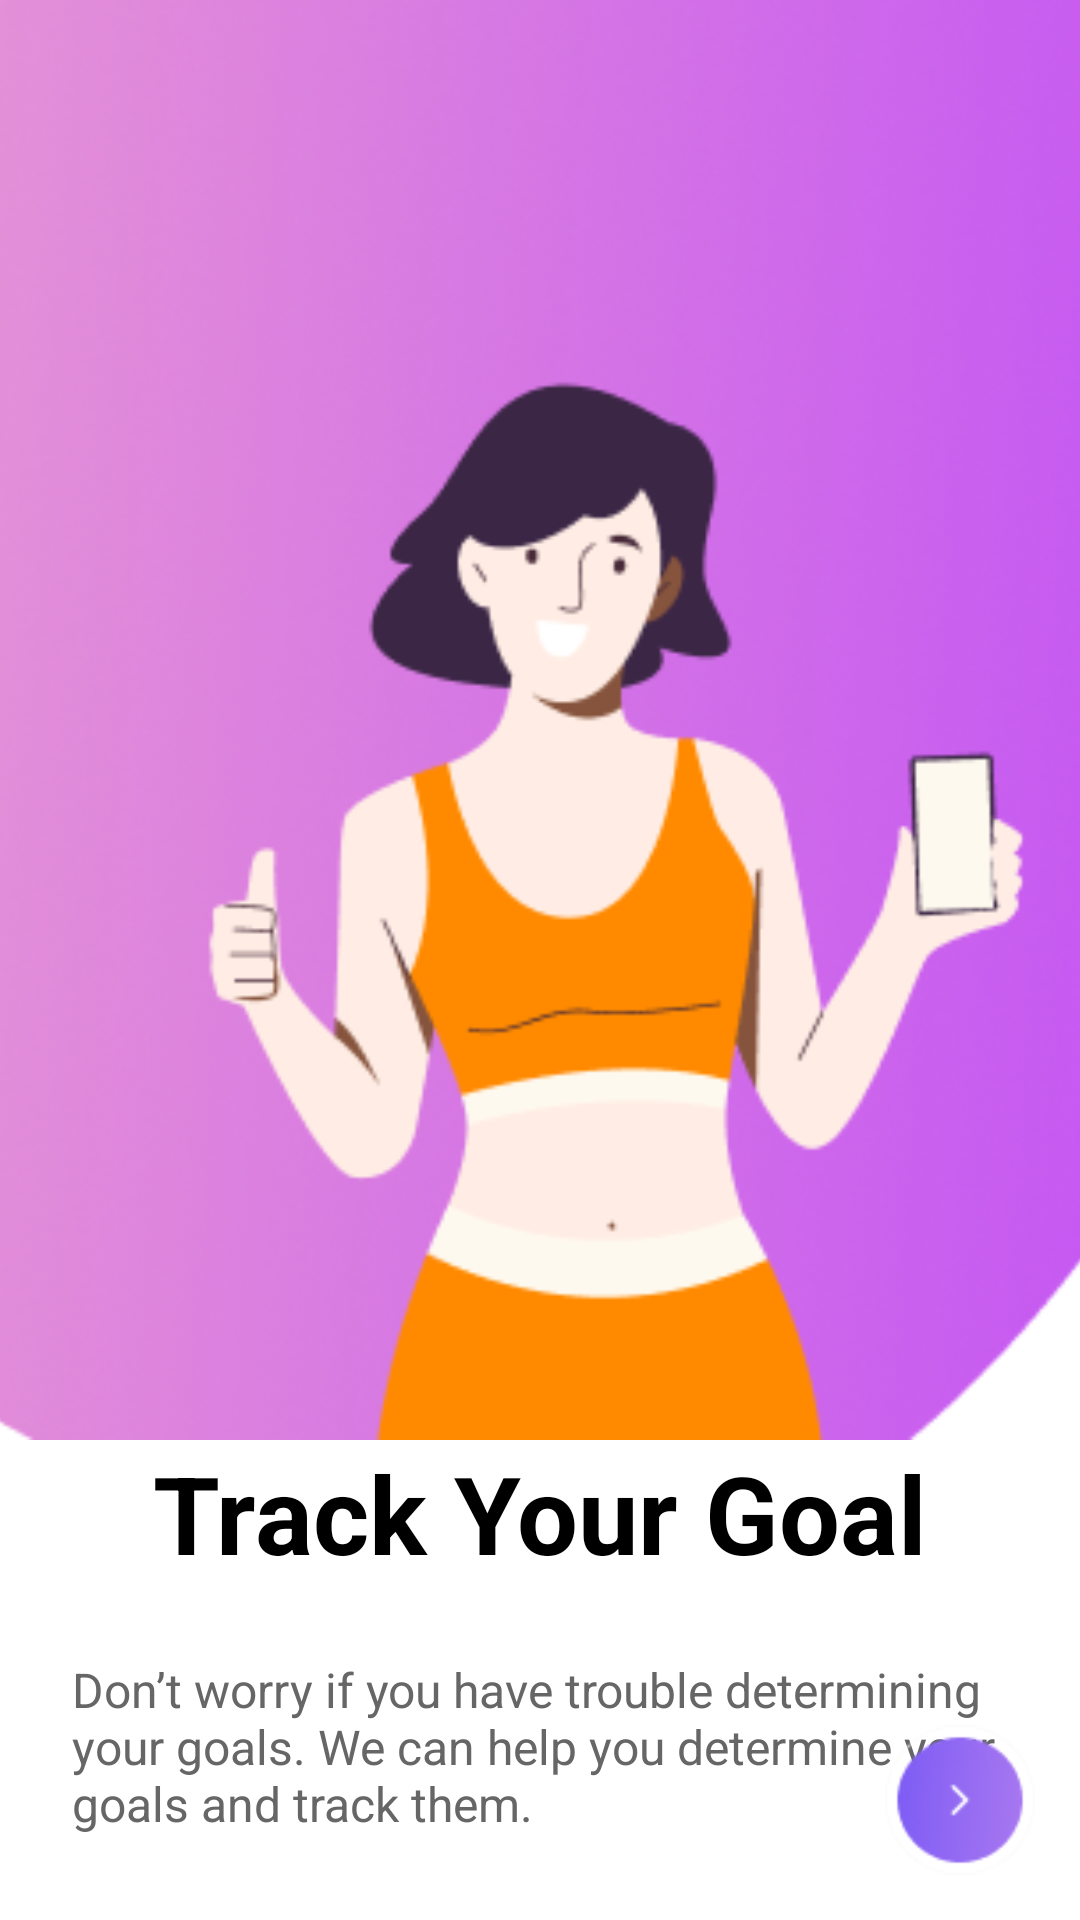

Screen size 1080x1920. Icon name, then its box in pixels as bbox=[x1, y1, x2, y2]:
arrow right: bbox=[897, 1737, 1023, 1863]
